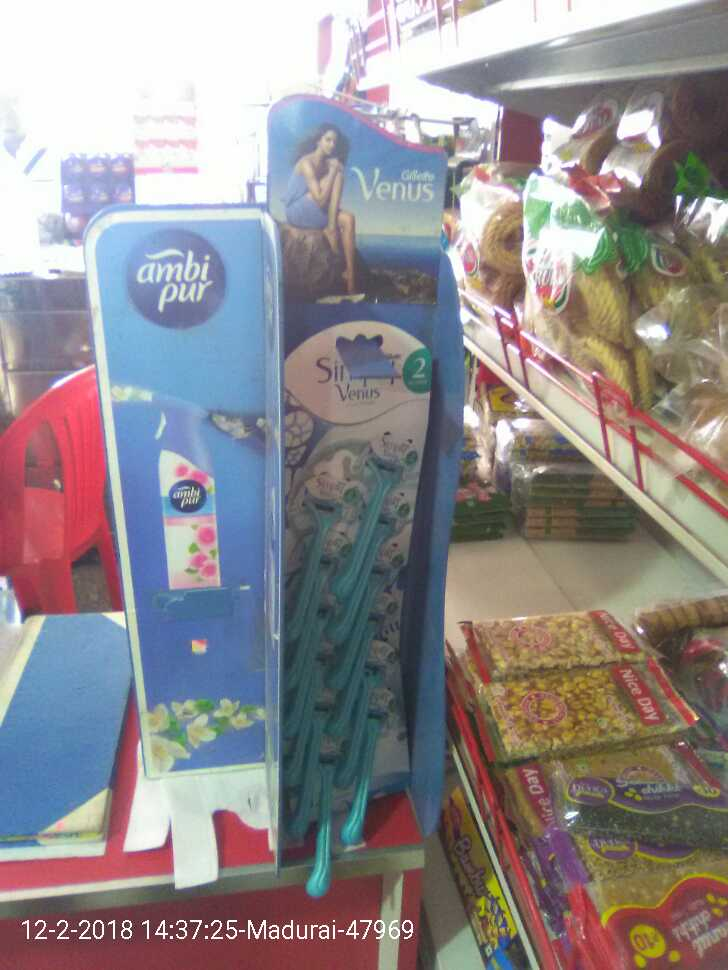reject: (186, 368, 272, 486)
